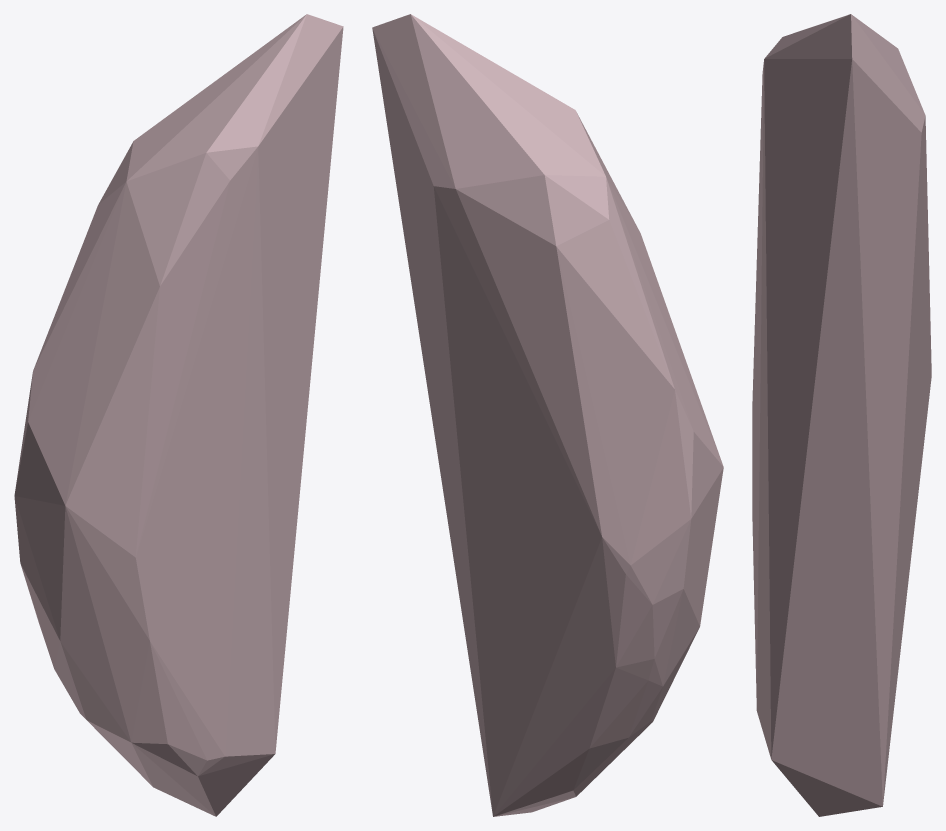
Rendered from food_produce_banana_b01.glb.
3 views of the same model, side by side, from view 1: azimuth 30°, elevation 25°; view 2: azimuth 150°, elevation 25°; view 3: azimuth 270°, elevation 25° (orthographic). The views are drawn at different scales.
Parts seen in each view (by area): view 1: geometry_0; view 2: geometry_0; view 3: geometry_0.
Boxes of the visible parts, x1,y1,x2,y2 form: geometry_0: (14, 14, 343, 816); geometry_0: (372, 14, 723, 816); geometry_0: (752, 14, 931, 816).
Size of the model in its own units: 0.1989 by 0.4543 by 0.0859.
